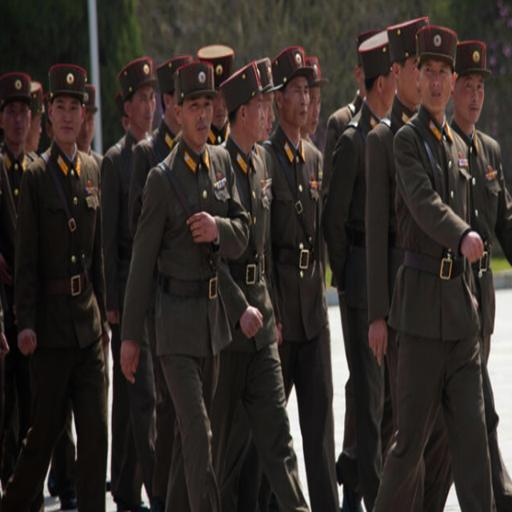north army: (17, 40, 512, 442)
